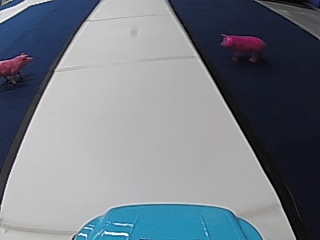pig: (217, 29, 265, 64), (0, 50, 31, 84)
